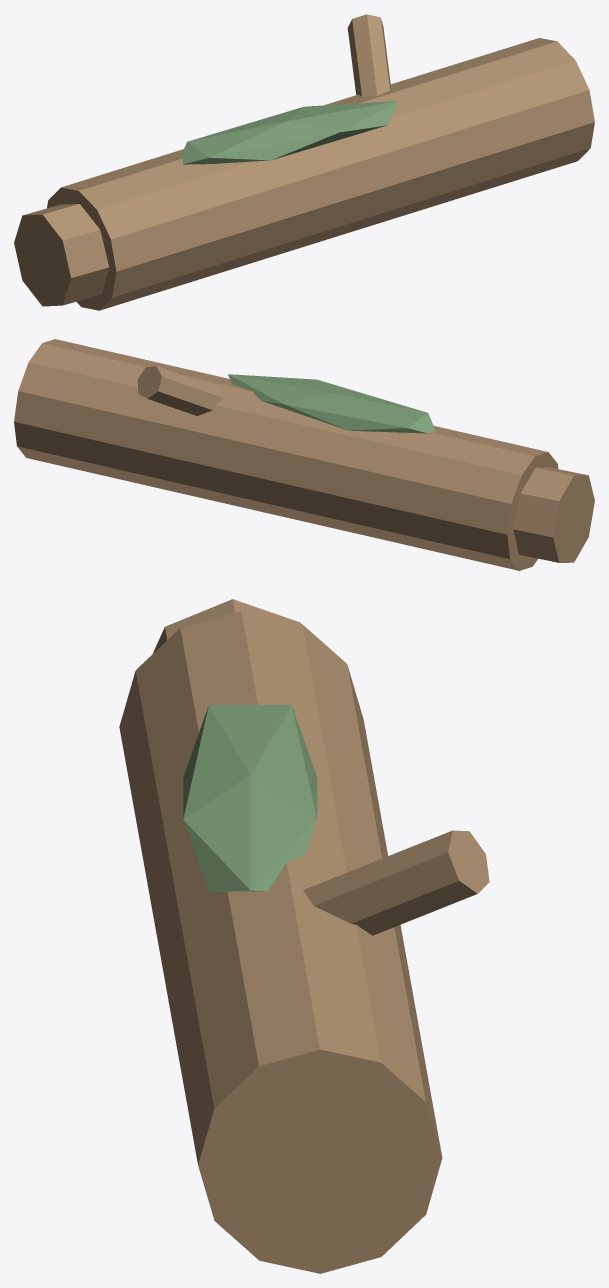
The model's file is myb_forest_fallen_log_a.fbx.
3 renders of one model, top to bottom at view 1: azimuth 30°, elevation 25°; view 2: azimuth 150°, elevation 25°; view 3: azimuth 270°, elevation 25°, orthographic. The views are drawn at different scales.
Parts seen in each view (by area): view 1: myb_forest_fallen_log_a; view 2: myb_forest_fallen_log_a; view 3: myb_forest_fallen_log_a.
Part boxes in pixels (bbox=[...]): myb_forest_fallen_log_a: bbox=[14, 14, 594, 310]; myb_forest_fallen_log_a: bbox=[14, 339, 594, 570]; myb_forest_fallen_log_a: bbox=[119, 599, 489, 1273].
Size of the model in its own units: 2.74 by 0.8089 by 0.8465.
